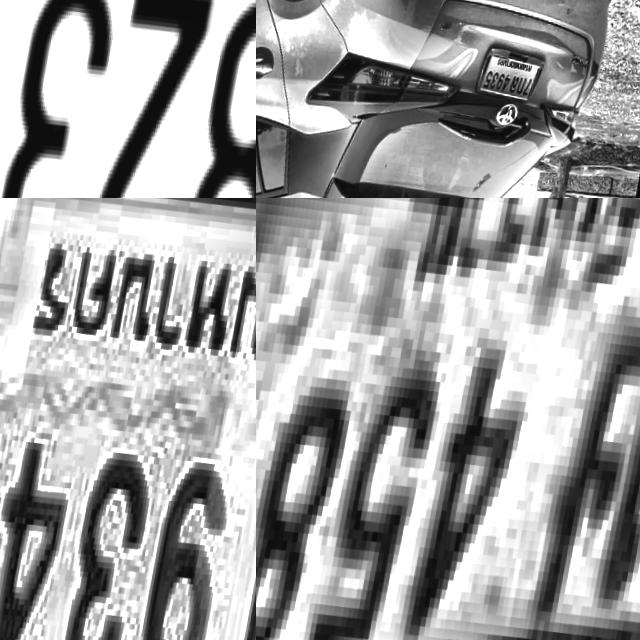license-plate: (256, 198, 640, 640), (0, 198, 256, 640), (0, 0, 256, 198), (475, 42, 550, 107)
